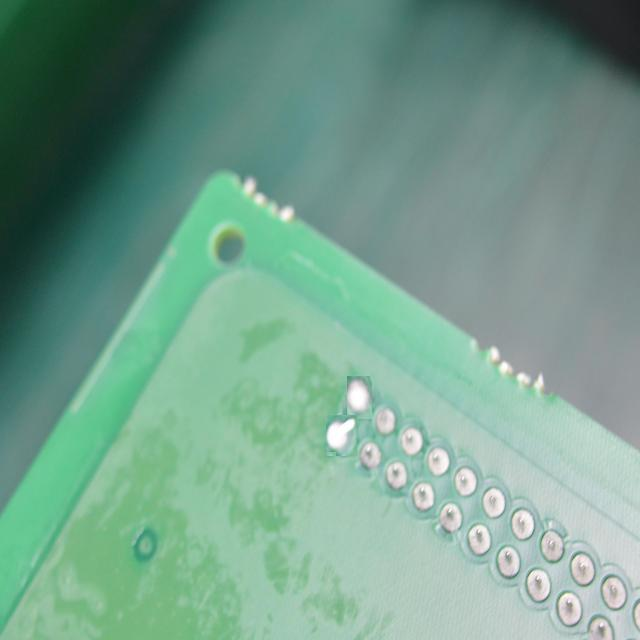slug: (325, 414, 357, 456), (348, 376, 373, 419)
